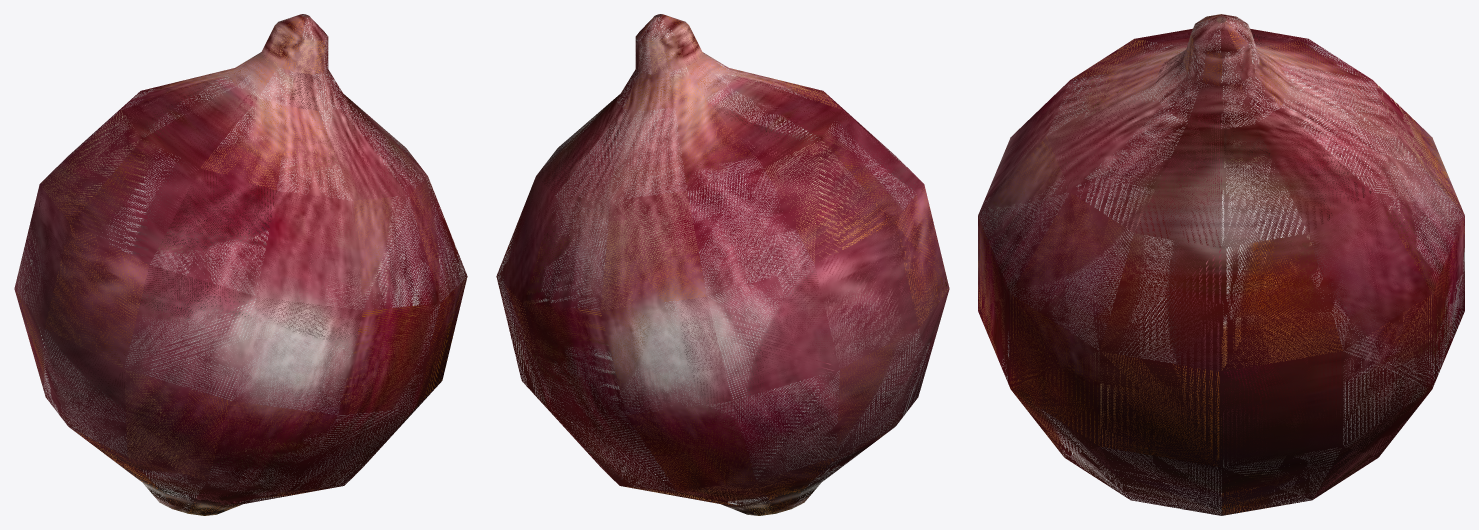
File: onion.dae
3 renders of one model, left to right at view 1: azimuth 30°, elevation 25°; view 2: azimuth 150°, elevation 25°; view 3: azimuth 270°, elevation 25°, orthographic. The views are drawn at different scales.
Visible parts, largest first — view 1: group_1; view 2: group_1; view 3: group_1.
Part boxes in pixels (bbox=[...]): group_1: bbox=[14, 14, 467, 515]; group_1: bbox=[496, 14, 949, 515]; group_1: bbox=[978, 14, 1464, 515].
Size of the model in its own units: 5.9 by 5.71 by 6.72.
Materials: 1 (1 with a texture image).
